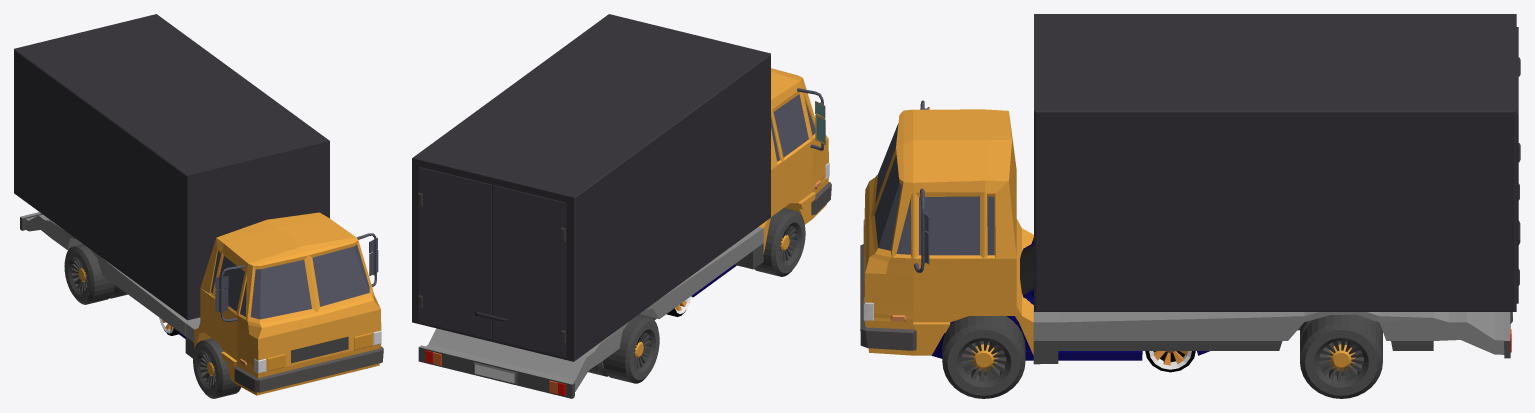
Rendered from Грузовик12.fbx.
3 renders of one model, left to right at view 1: azimuth 30°, elevation 25°; view 2: azimuth 150°, elevation 25°; view 3: azimuth 270°, elevation 25°, orthographic. The views are drawn at different scales.
Parts seen in each view (by area): view 1: Cube.001, RR1, FR; view 2: Cube.001, RR1, FR; view 3: Cube.001, RL1, FL, Cube, RL.
Boxes of the visible parts, x1,y1,x2,y2 form: Cube.001: (14, 14, 383, 395); RR1: (64, 244, 114, 304); FR: (193, 338, 240, 398); Cube.001: (412, 14, 831, 398); RR1: (602, 315, 659, 383); FR: (754, 208, 805, 276); Cube.001: (860, 14, 1520, 364); RL1: (1300, 314, 1382, 398); FL: (942, 316, 1025, 398); Cube: (931, 237, 1209, 360); RL: (1145, 351, 1195, 372).
Size of the model in its own units: 727 by 891 by 1836.
